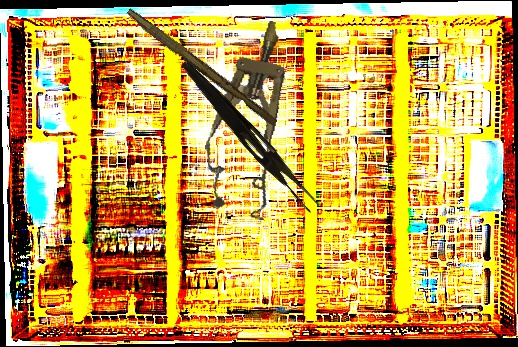Dressing Forceps: (173, 57, 325, 215)
Scalpel Handle: (122, 7, 281, 128)
Speculum: (191, 12, 311, 222)
